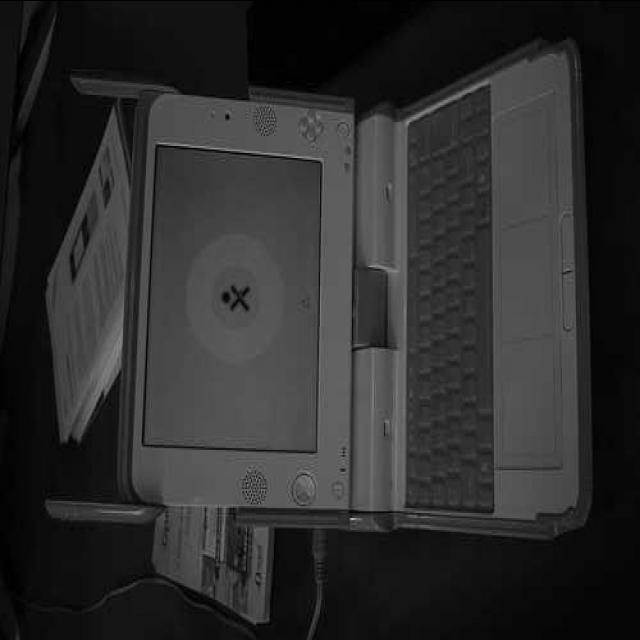laptop: (137, 74, 583, 506)
